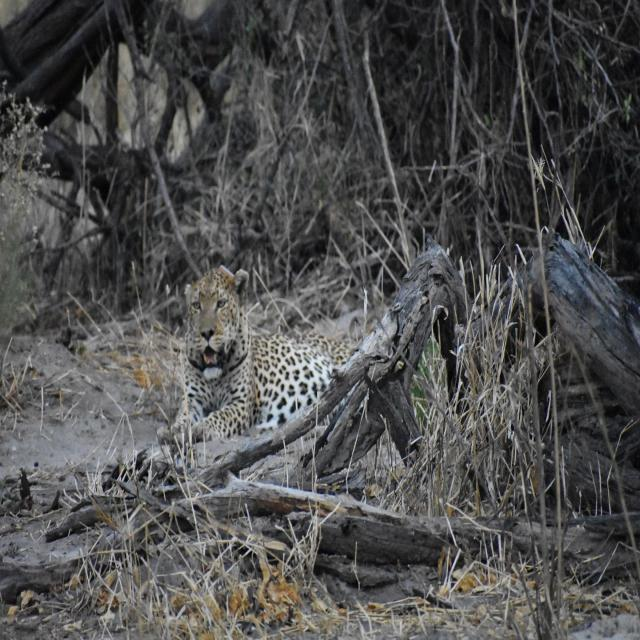Leopard: (153, 262, 366, 446)
